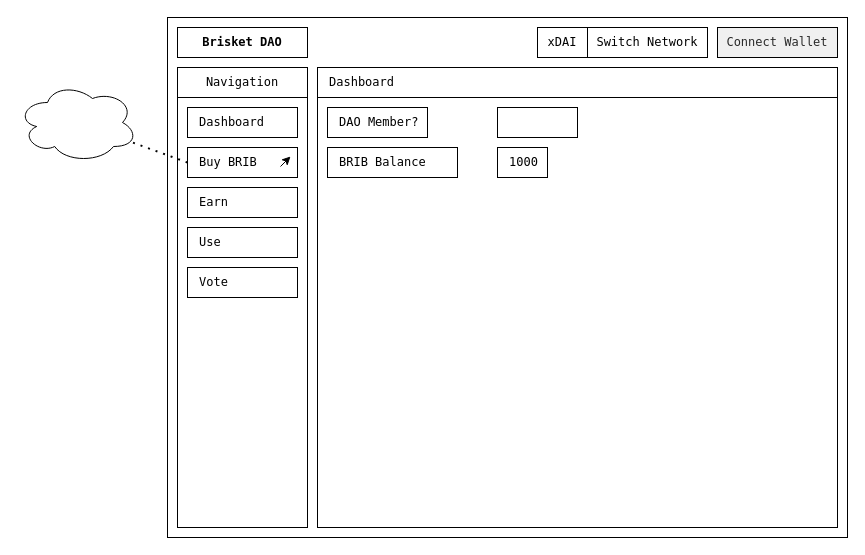
Some shapes in this 865 by 555 pixel diagram are drawn without their labels. Each missing label, with the box of its shape:
<Yes/No>: (496, 106, 578, 138)
Links to SushiSwap: (16, 82, 138, 162)
